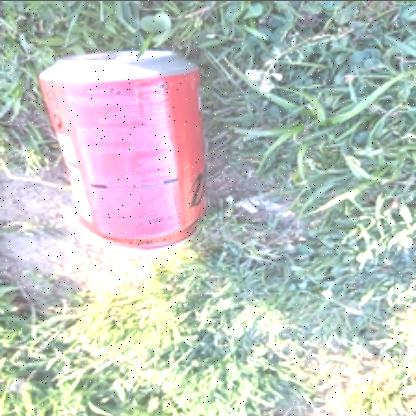Can: (38, 48, 208, 250)
